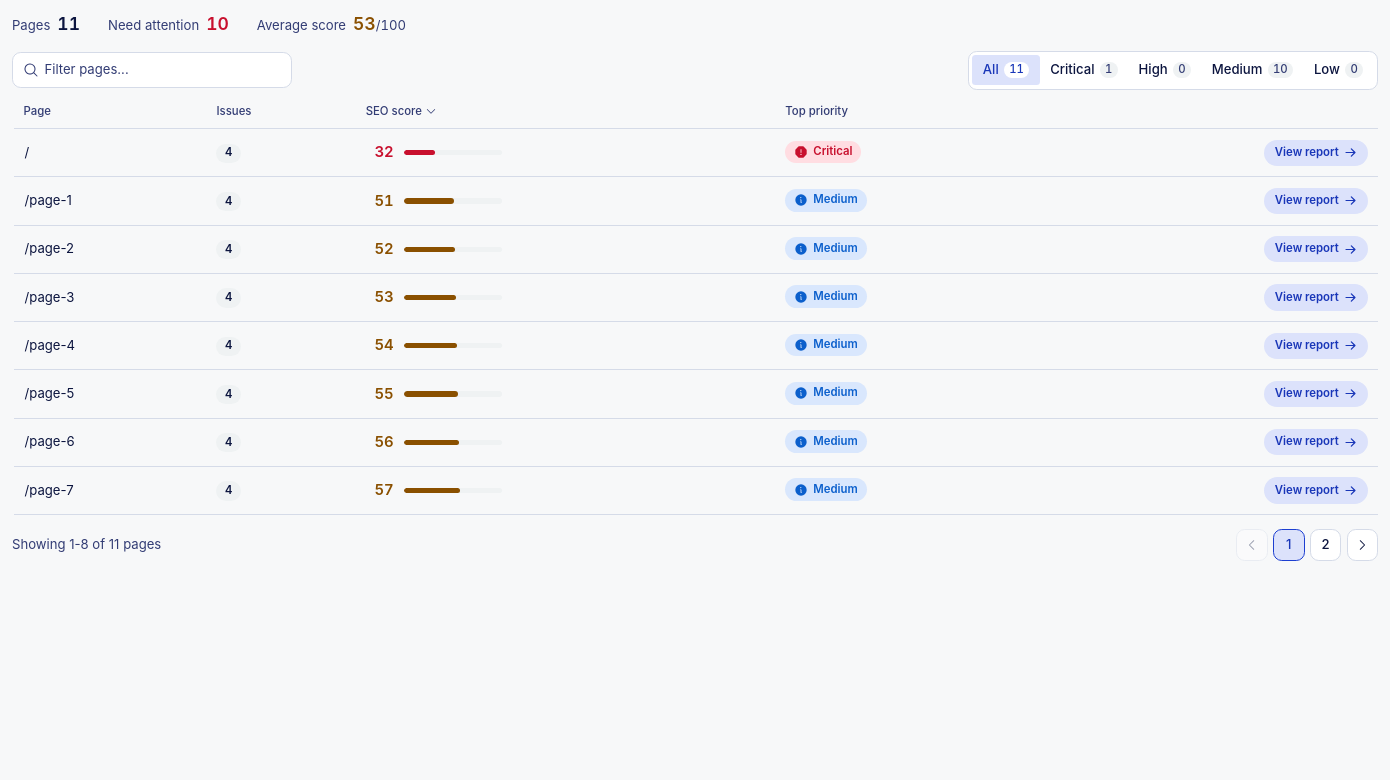
Test: AuditPageTable › shows eight pages at a time and pages through the rest
Expected: the text "Showing 1-8 of 11 pages" is shown, [12, 535, 161, 555]
Step 1. Click the button "2" → point(1326, 545), box [1310, 529, 1341, 561]
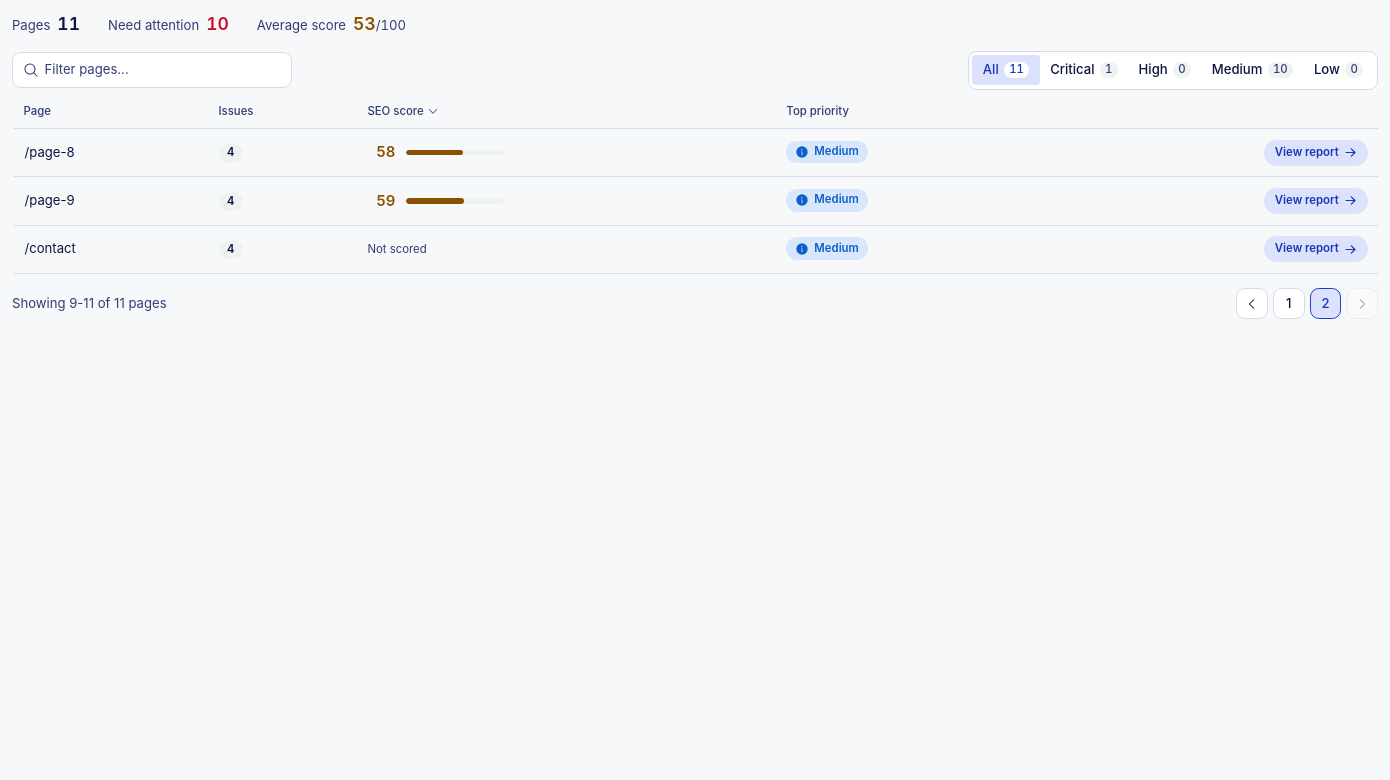
Now the text "Showing 9-11 of 11 pages" is shown, box [12, 294, 167, 313]
